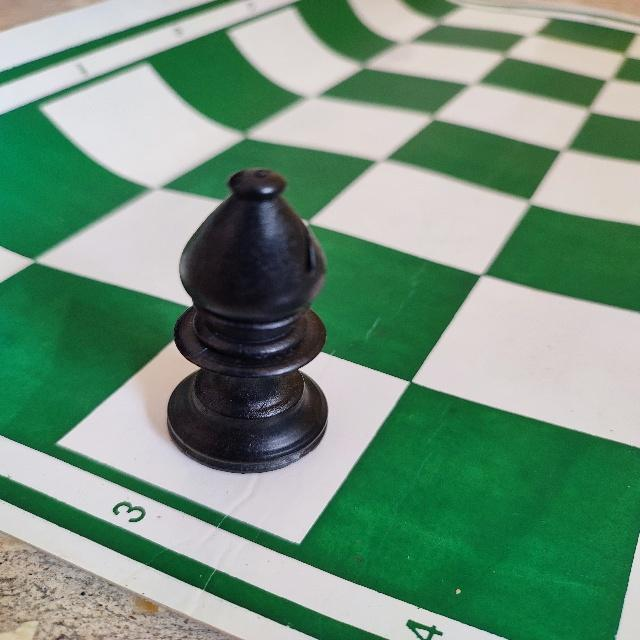Bishop: (161, 162, 331, 476)
